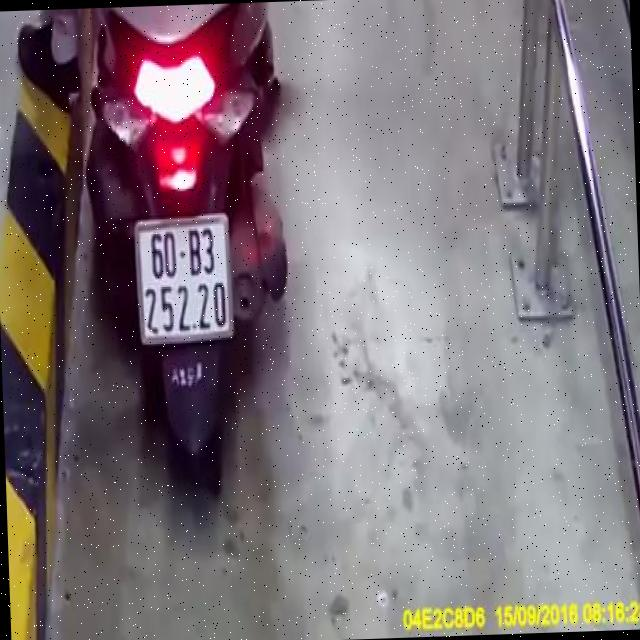license_plate: (135, 220, 231, 342)
